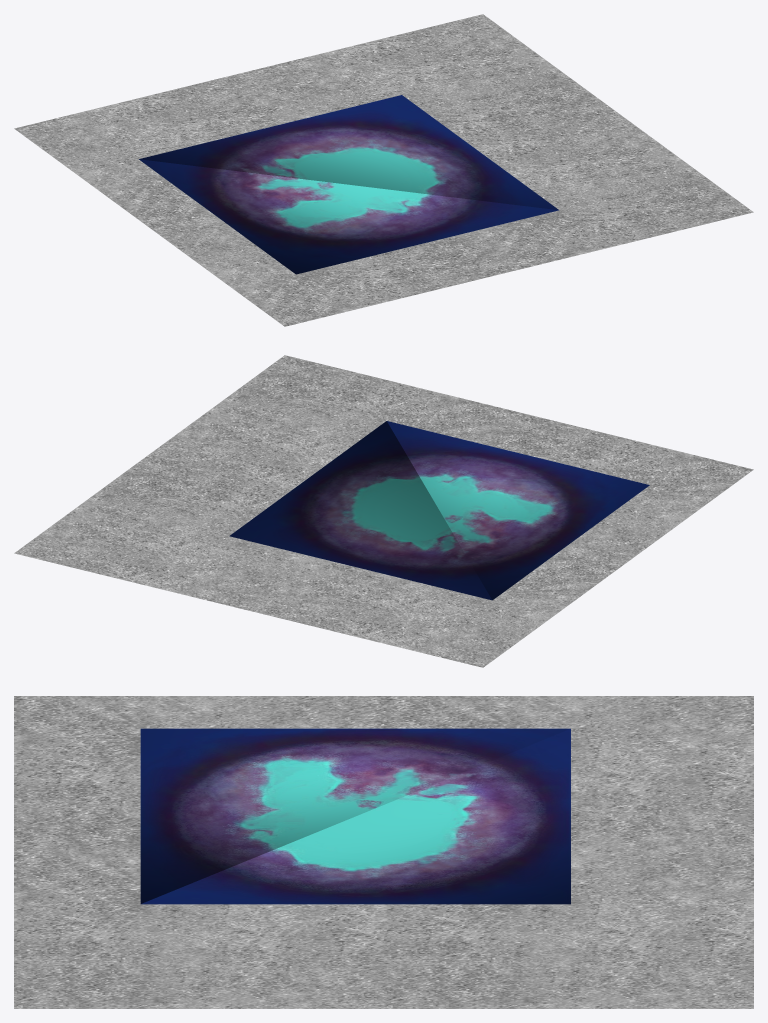
File: pir_m_are_isl_delFuego_ocean.fbx
3 renders of one model, top to bottom at view 1: azimuth 30°, elevation 25°; view 2: azimuth 150°, elevation 25°; view 3: azimuth 270°, elevation 25°, orthographic. The views are drawn at different scales.
Visible parts, largest first — view 1: sandfloor, water_color; view 2: sandfloor, water_color; view 3: sandfloor, water_color.
Boxes of the visible parts, bbox=[...] form: sandfloor: bbox=[14, 14, 753, 326]; water_color: bbox=[139, 95, 558, 274]; sandfloor: bbox=[14, 355, 753, 667]; water_color: bbox=[229, 421, 649, 600]; sandfloor: bbox=[14, 696, 753, 1008]; water_color: bbox=[140, 728, 570, 904].
Size of the model in its own units: 800000 by 7048 by 800000.
Materials: 3 (3 with a texture image).
